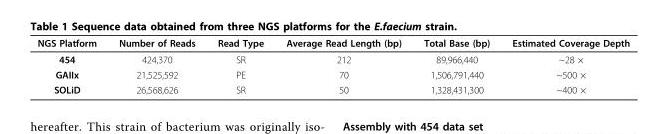table: (36, 36, 629, 95)
table column: (274, 36, 411, 95), (500, 36, 629, 95), (107, 36, 205, 95), (411, 36, 500, 95), (36, 36, 107, 95), (205, 36, 274, 95)
table column header: (36, 36, 629, 50)
table row: (36, 50, 629, 66), (36, 66, 629, 81), (36, 36, 629, 50), (36, 81, 629, 95)
